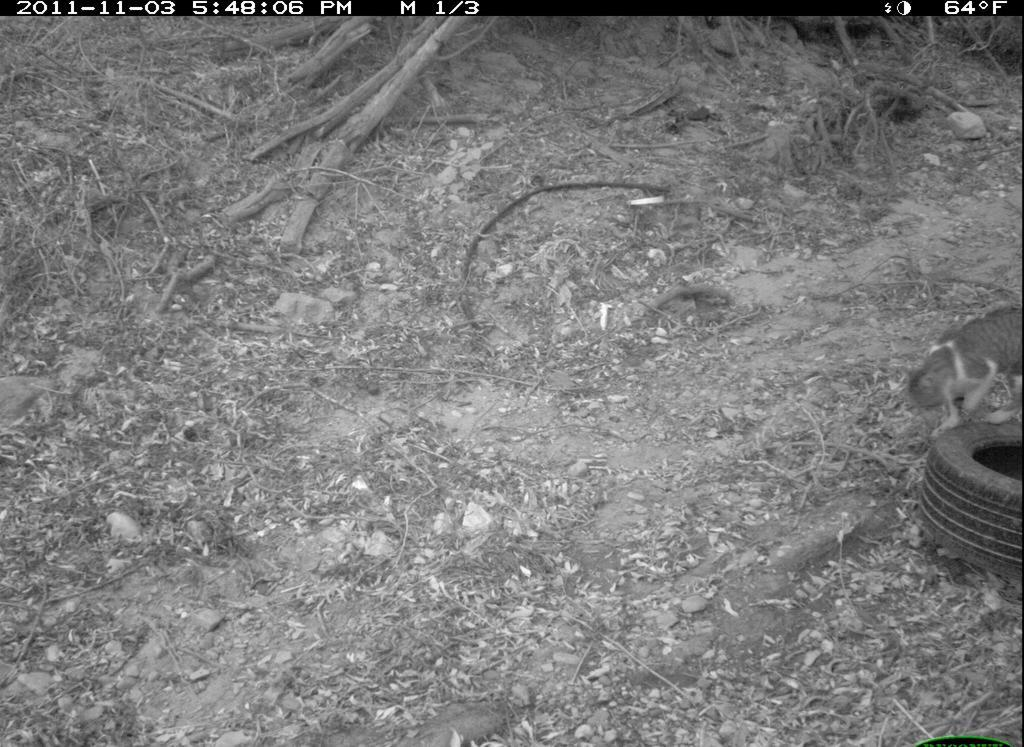cat: (893, 289, 1022, 437)
